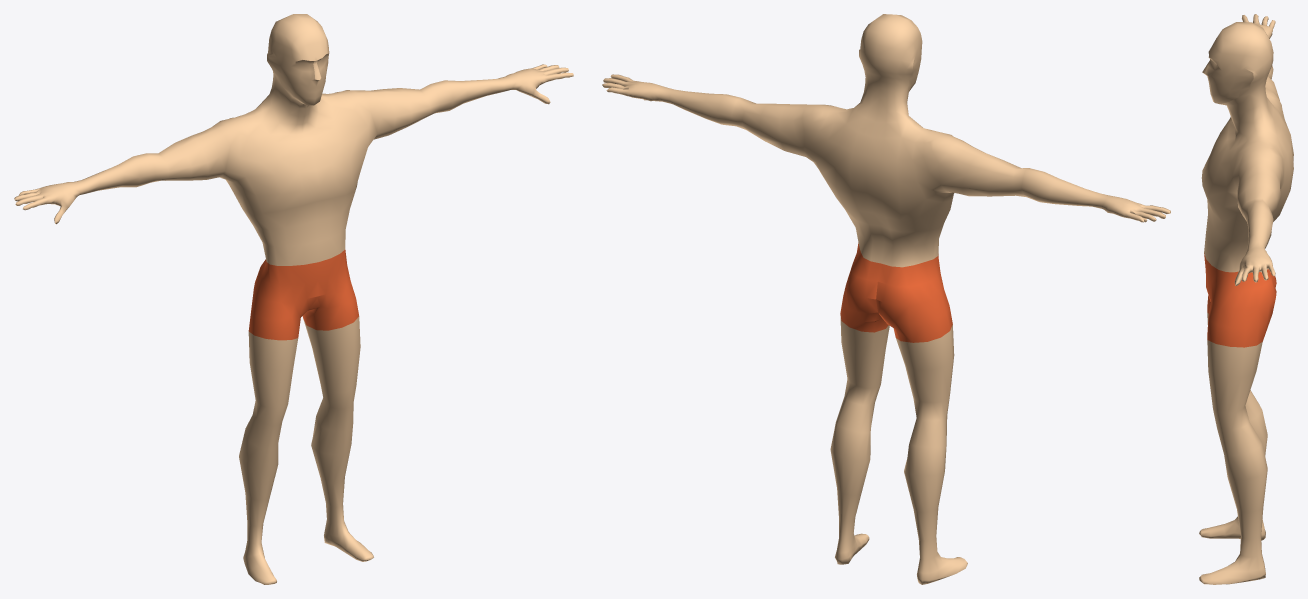
The model's file is Main_Character.fbx.
3 renders of one model, left to right at view 1: azimuth 30°, elevation 25°; view 2: azimuth 150°, elevation 25°; view 3: azimuth 270°, elevation 25°, orthographic. The views are drawn at different scales.
Visible parts, largest first — view 1: Main_Character; view 2: Main_Character; view 3: Main_Character.
Part boxes in pixels (box(x1,y1,x2,y2)): Main_Character: box(14, 14, 573, 584); Main_Character: box(602, 14, 1170, 584); Main_Character: box(1199, 14, 1293, 584).
Size of the model in its own units: 2.04 by 1.9 by 0.3066.
